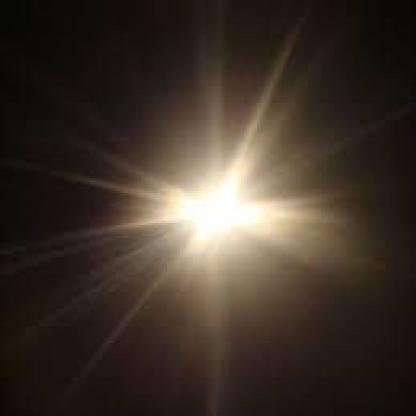other: (132, 135, 302, 260)
